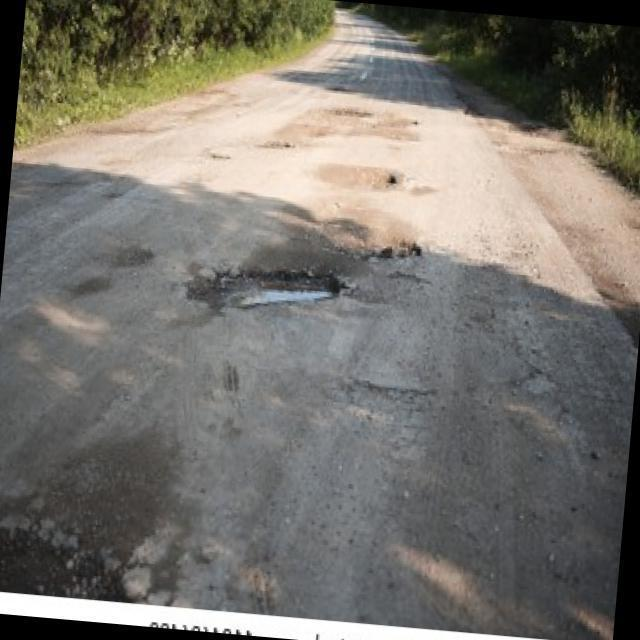pothole: (198, 254, 350, 318), (313, 228, 423, 266), (334, 166, 396, 191)
